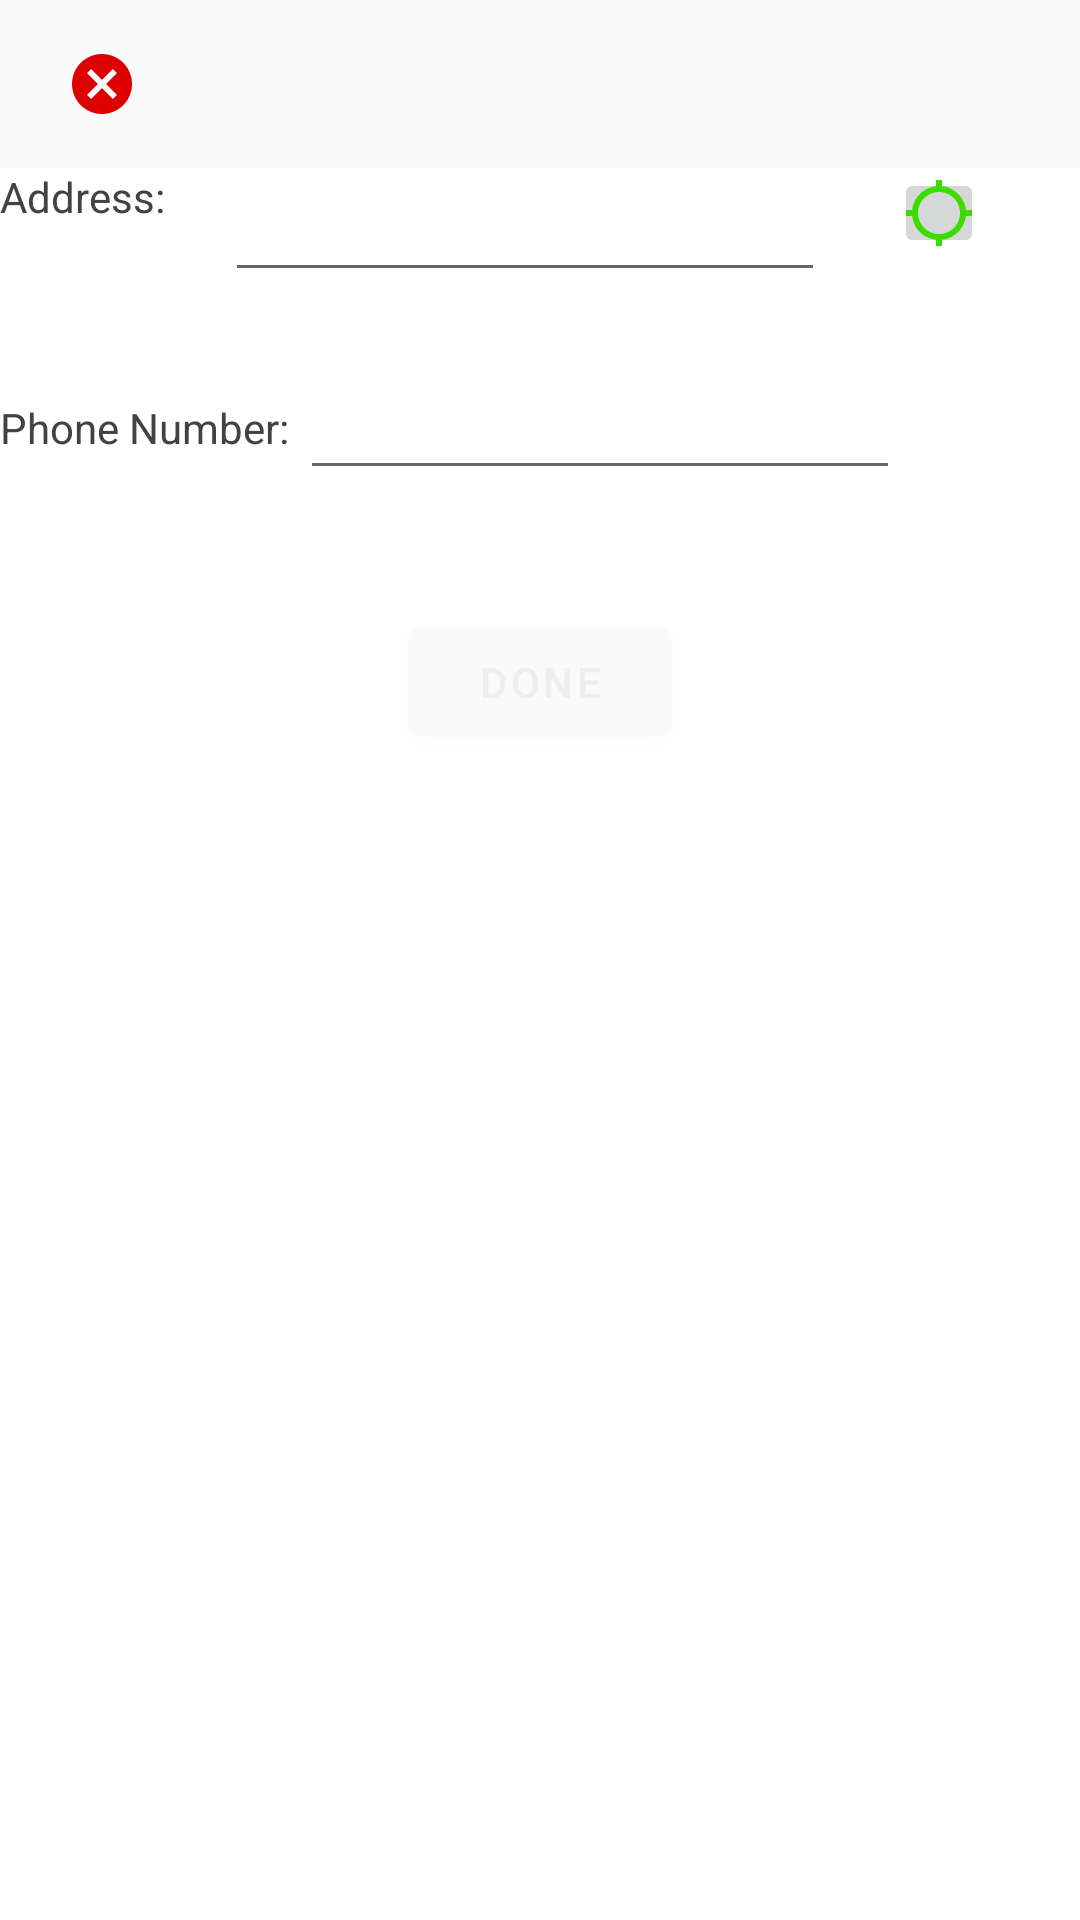

Icon bounding boxes for this 1080px x 1920px phone screenshot, format box(x1, y1, x2, y2):
location searching: box(906, 180, 972, 246)
